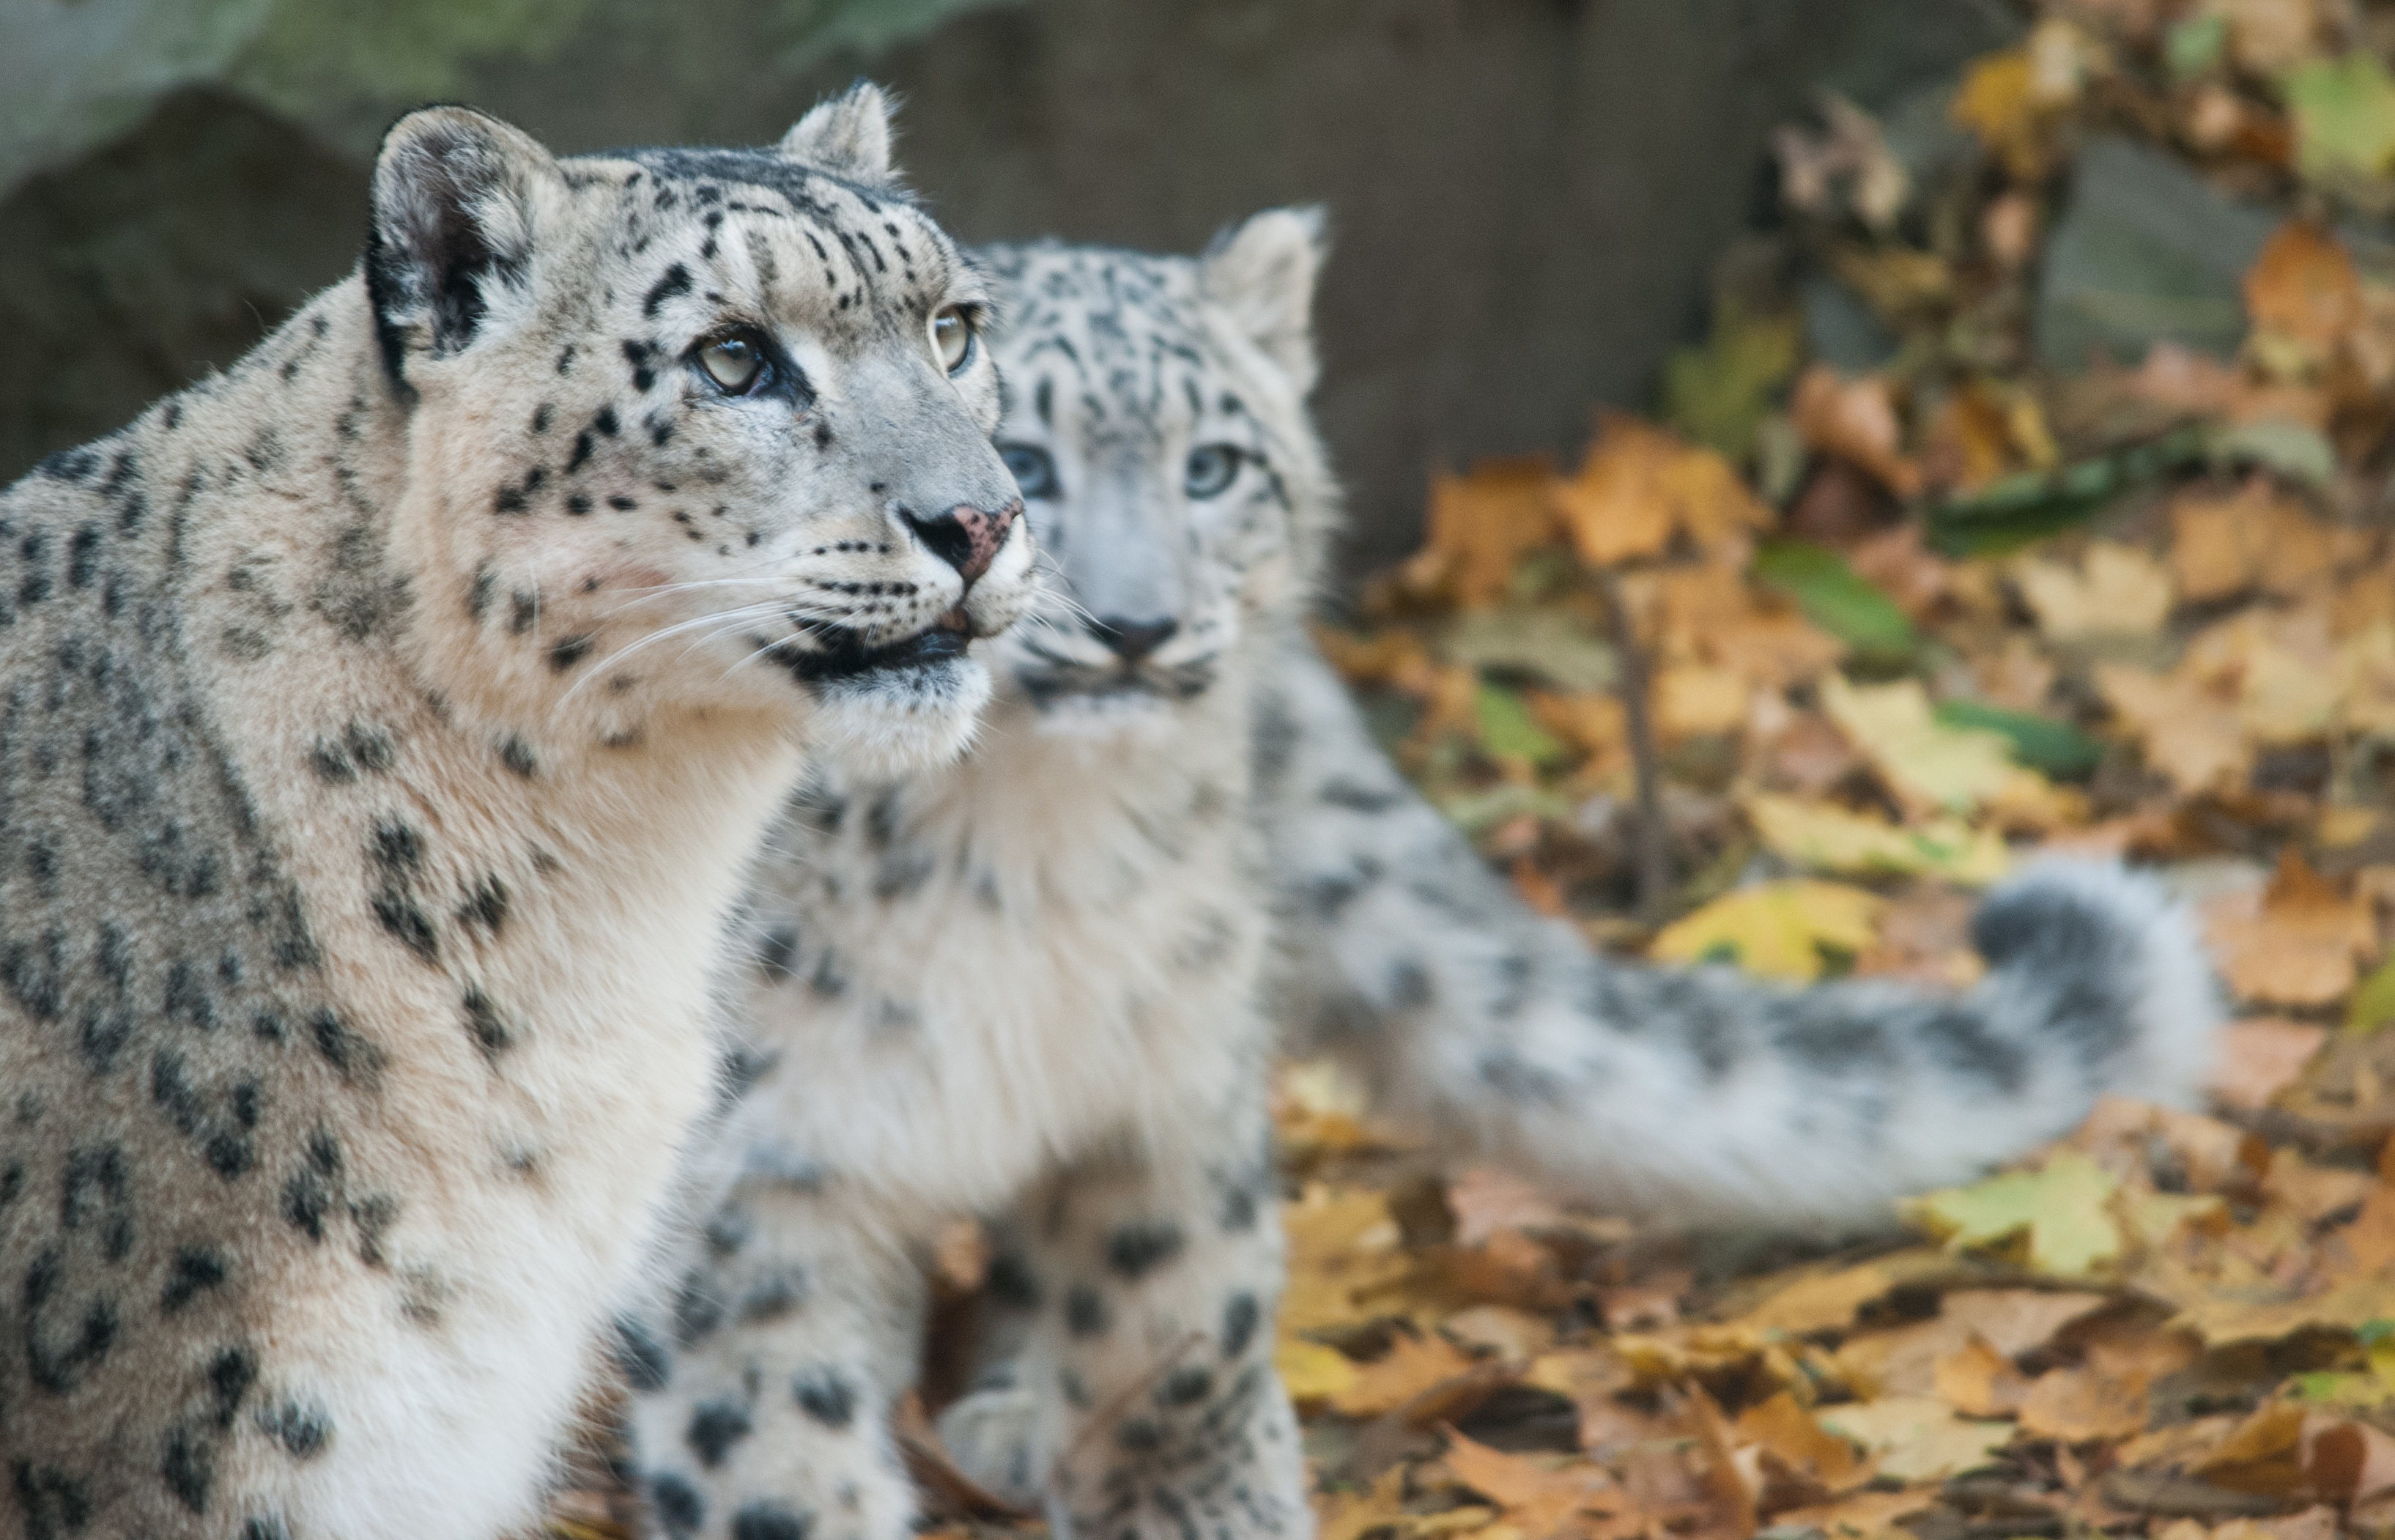tiger: (80, 68, 1035, 1516), (649, 159, 1438, 1500)
